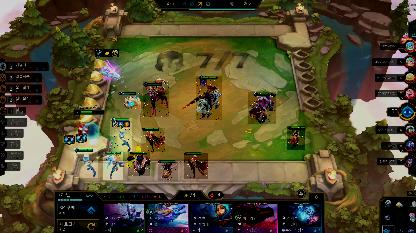1_bard: (128, 152, 150, 176)
1_leesin: (103, 152, 123, 180)
1_rakan: (184, 153, 208, 179), (141, 128, 165, 152)
1_seraphine: (118, 92, 140, 110)
1_twitch: (158, 161, 178, 181)
1_xayah: (287, 126, 305, 150)
2_ezreal: (110, 118, 132, 152), (74, 148, 98, 178)
2_lillia: (143, 81, 169, 117)
2_rell: (196, 76, 222, 120)
2_sejuani: (248, 92, 276, 124)
